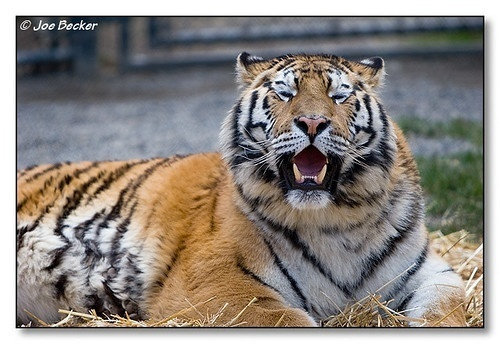tigre: (18, 50, 466, 328)
